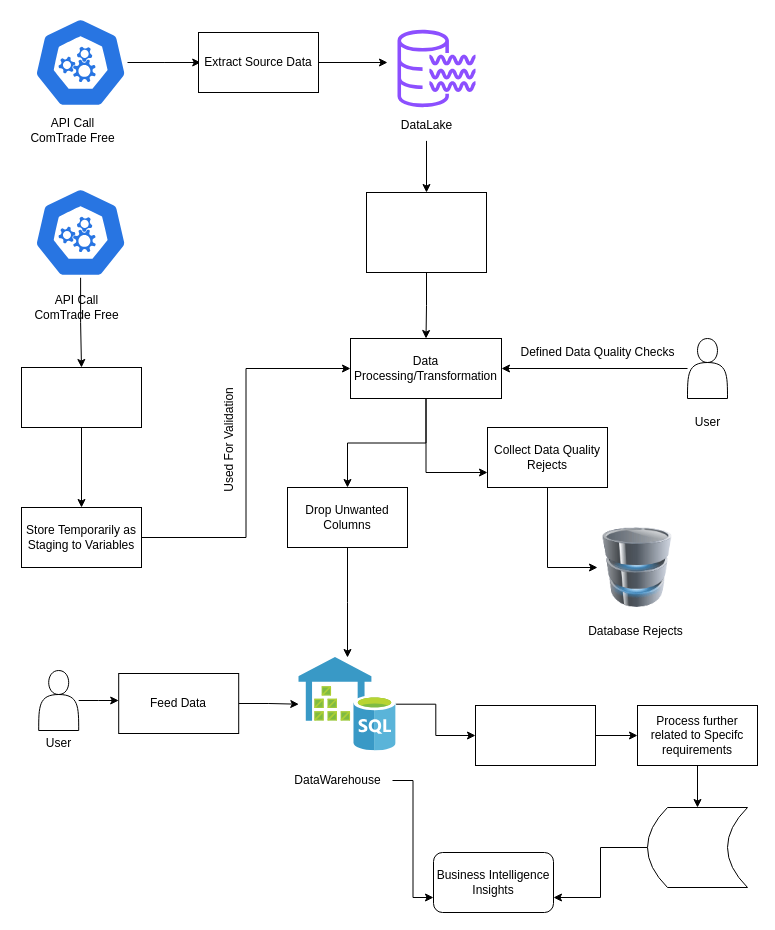
Some shapes in this 775 by 930 pixel diagram are drawn without their labels. Here are the shapes that lost their labels. From the top down, the centre of each, then its label:
At (x=426, y=232): "Extract Raw Data".
At (x=81, y=397): "Extract Meta Data for Validation".
At (x=535, y=735): "Extract Data".
At (x=697, y=847): "DataMart".
